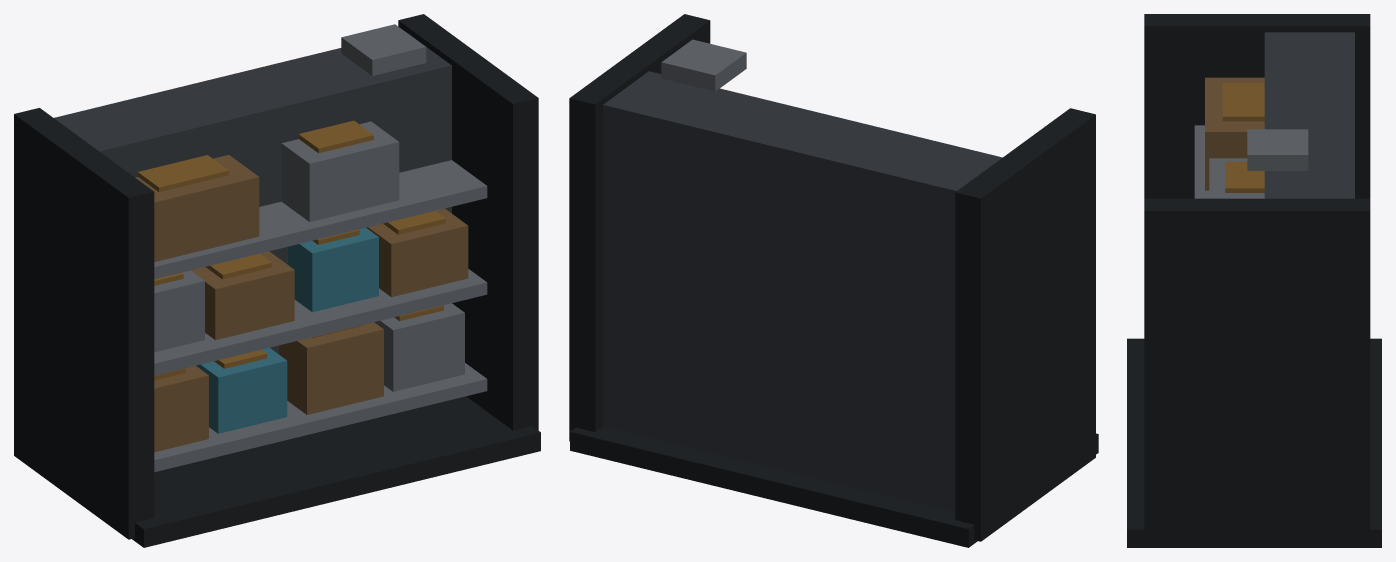
File: storage.obj
3 views of the same model, side by side, from view 1: azimuth 30°, elevation 25°; view 2: azimuth 150°, elevation 25°; view 3: azimuth 270°, elevation 25° (orthographic).
Parts seen in each view (by area): view 1: device_storage; view 2: device_storage; view 3: device_storage.
Part boxes in pixels (bbox=[...]): device_storage: bbox=[14, 14, 540, 547]; device_storage: bbox=[569, 14, 1098, 547]; device_storage: bbox=[1127, 14, 1381, 547].
Bounding box in the file's own units: 3.2 × 2.78 × 1.75.
